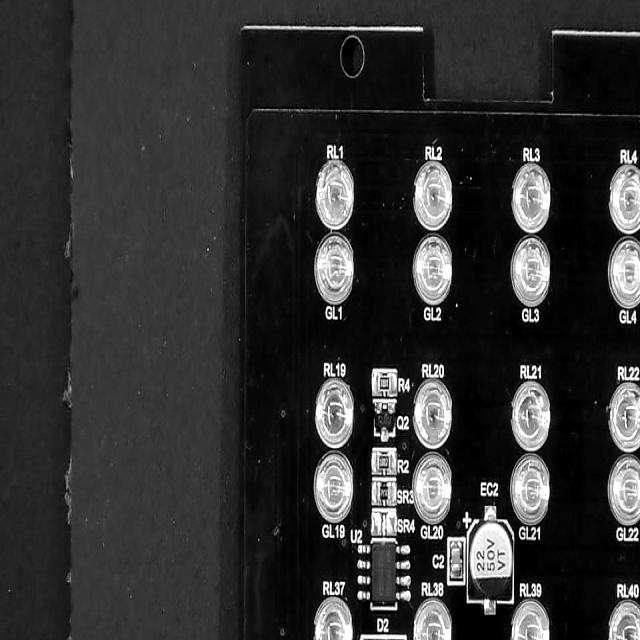Capacitor: (470, 523, 513, 603), (451, 547, 462, 574)
IC: (369, 540, 400, 610)
Mosfet: (375, 401, 395, 434)
Register: (376, 450, 392, 472), (376, 482, 392, 502), (379, 511, 389, 537), (377, 375, 392, 392)
Soldering: (389, 373, 398, 397), (388, 514, 397, 534), (372, 372, 380, 394), (372, 482, 380, 503), (371, 513, 379, 533), (389, 450, 396, 472), (372, 450, 378, 474), (389, 483, 396, 503)
led: (0, 206, 109, 451), (411, 453, 454, 528), (313, 448, 355, 523), (510, 378, 552, 452), (313, 376, 356, 448), (410, 232, 450, 308), (314, 232, 354, 308), (412, 378, 453, 452), (510, 452, 551, 526), (512, 236, 552, 307), (413, 162, 454, 230), (513, 164, 552, 235), (317, 160, 355, 230), (607, 379, 640, 454), (606, 455, 640, 527), (607, 236, 640, 307), (608, 162, 640, 234), (314, 595, 354, 640), (412, 598, 453, 640), (510, 598, 550, 640), (608, 601, 640, 640)
